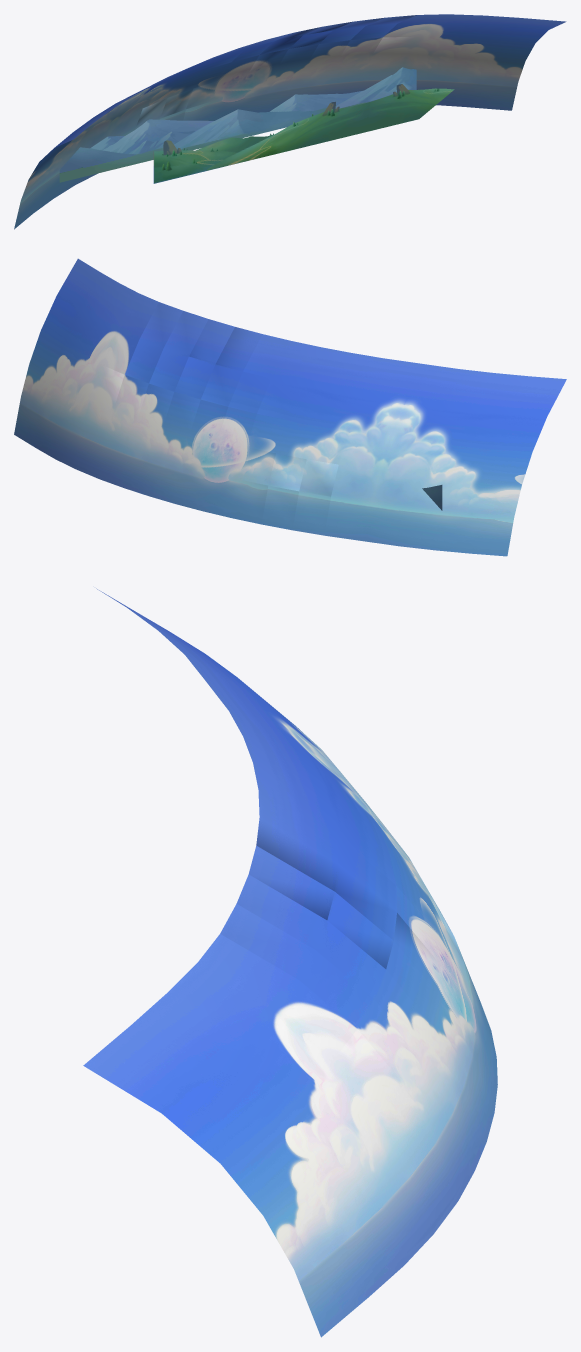
The model's file is TianKong.fbx.
3 views of the same model, one above another, from view 1: azimuth 30°, elevation 25°; view 2: azimuth 150°, elevation 25°; view 3: azimuth 270°, elevation 25° (orthographic). The views are drawn at different scales.
Visible parts, largest first — view 1: ZhuCheng_TianKong_01, ZhuCheng_TianKong_02, ZhuCheng_TianKong_03; view 2: ZhuCheng_TianKong_01; view 3: ZhuCheng_TianKong_01.
Part boxes in pixels (x1=…): ZhuCheng_TianKong_01: x1=14, y1=14, x2=566, y2=229; ZhuCheng_TianKong_02: x1=59, y1=67, x2=416, y2=182; ZhuCheng_TianKong_03: x1=153, y1=84, x2=454, y2=183; ZhuCheng_TianKong_01: x1=14, y1=258, x2=566, y2=556; ZhuCheng_TianKong_01: x1=83, y1=588, x2=497, y2=1337.
Size of the model in its own units: 477 by 134 by 173.
Materials: 1 (1 with a texture image).
